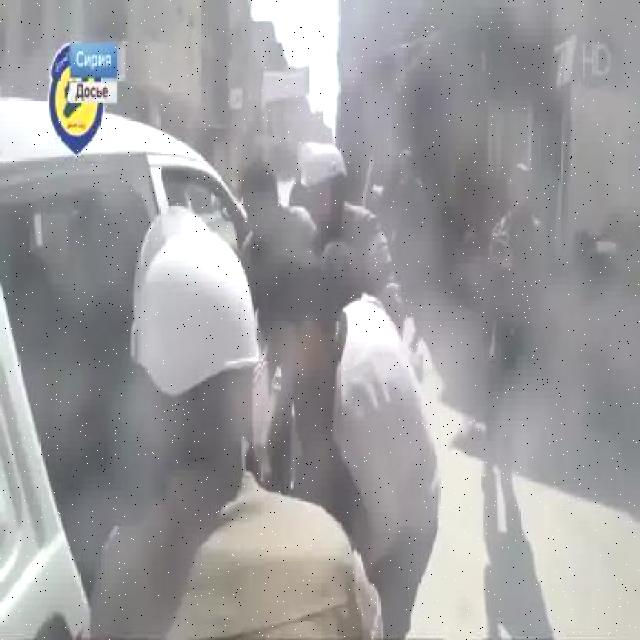Helmet: (128, 204, 261, 400), (296, 138, 349, 191)
